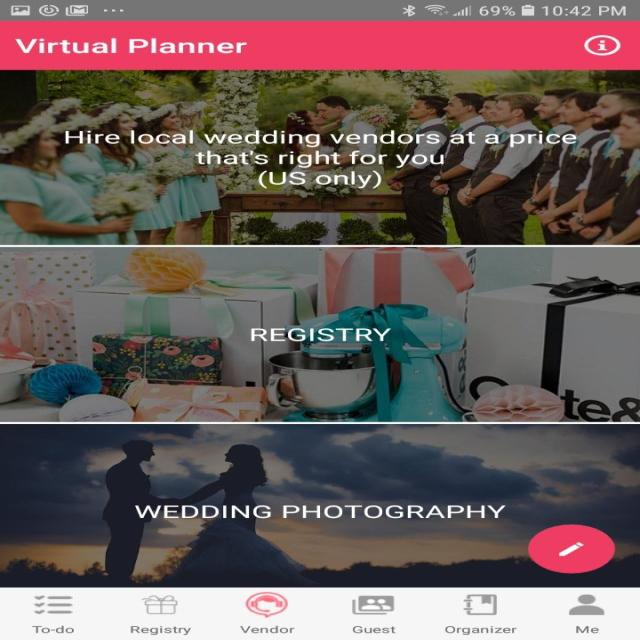Icon: (526, 524, 615, 574), (350, 594, 395, 614), (582, 35, 620, 56), (33, 595, 73, 614), (568, 594, 604, 615), (461, 594, 497, 615), (140, 595, 178, 614)
Image: (0, 246, 639, 422), (0, 70, 639, 245), (0, 424, 639, 587), (244, 591, 288, 618)
Text: (65, 130, 577, 189), (134, 504, 506, 518), (13, 38, 247, 54), (249, 328, 392, 342), (444, 625, 516, 635), (130, 625, 192, 635), (239, 625, 295, 633), (351, 625, 396, 633), (31, 625, 75, 633), (574, 625, 599, 633)
